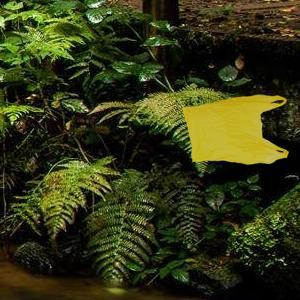plastic_bag: (182, 88, 293, 168)
